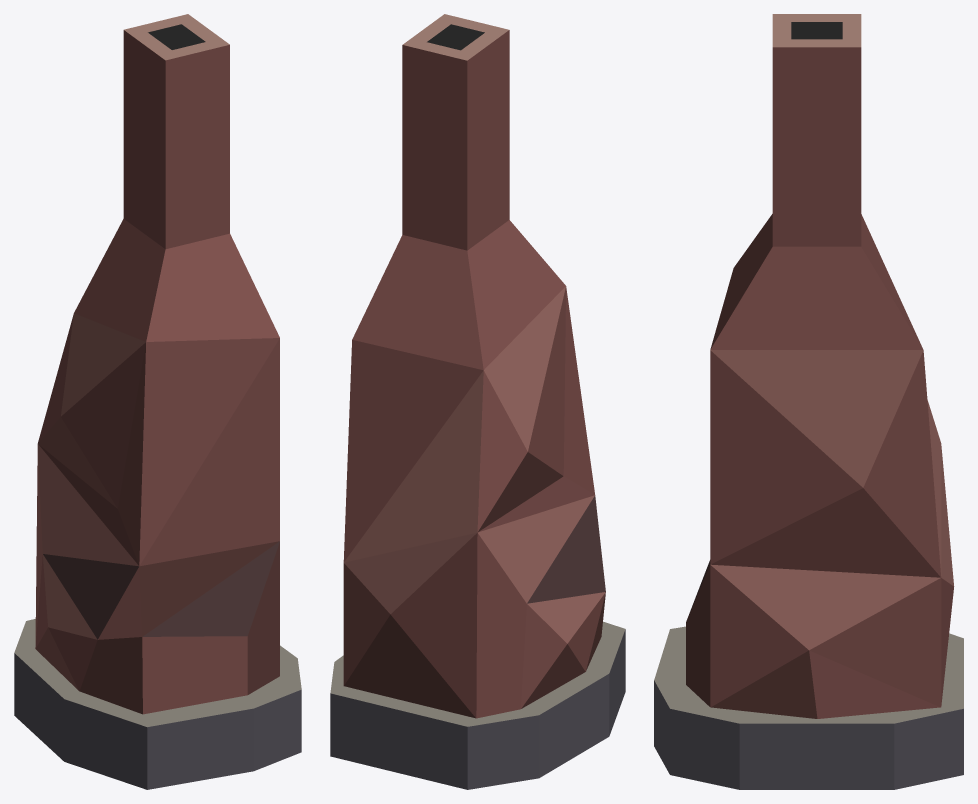
The model's file is TB_D_Bd_Chimney_Red.FBX.
The picture shows the model from 3 angles, left to right: view 1: azimuth 30°, elevation 25°; view 2: azimuth 150°, elevation 25°; view 3: azimuth 270°, elevation 25°; orthographic projection. The views are drawn at different scales.
Parts seen in each view (by area): view 1: TB_D_Bd_Chimney_Red; view 2: TB_D_Bd_Chimney_Red; view 3: TB_D_Bd_Chimney_Red.
Boxes of the visible parts, x1,y1,x2,y2 form: TB_D_Bd_Chimney_Red: (14,14,301,789); TB_D_Bd_Chimney_Red: (330,14,625,789); TB_D_Bd_Chimney_Red: (654,14,963,789).
Size of the model in its own units: 2.01 by 6 by 2.35.
